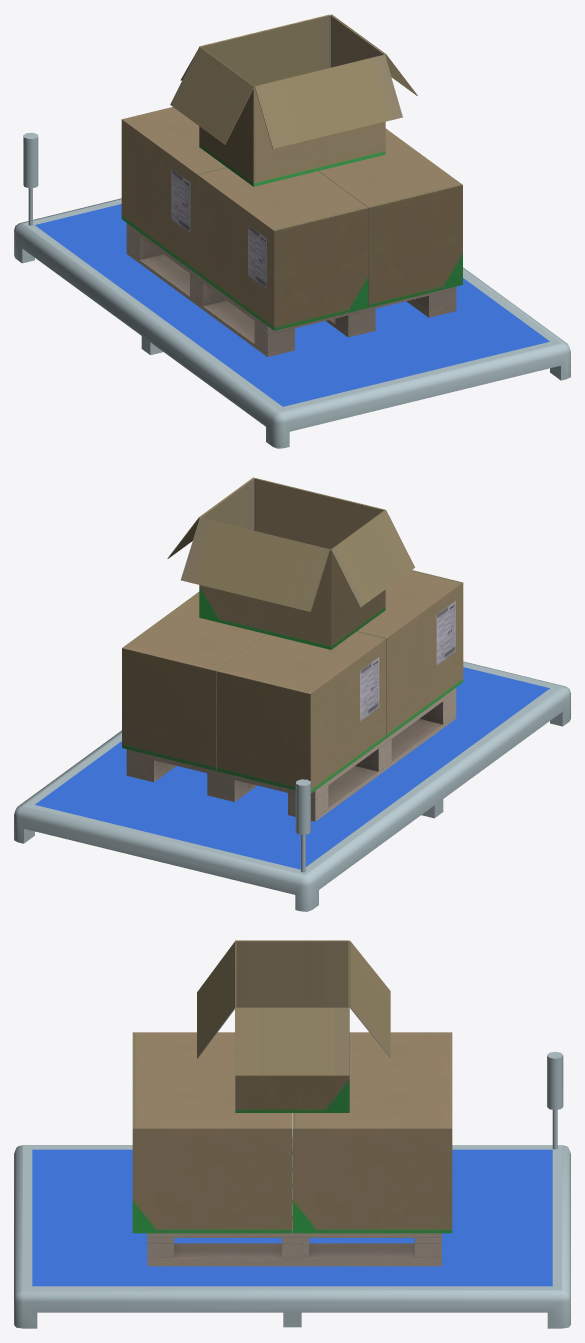
The model's file is yuan.gltf.
3 views of the same model, one above another, from view 1: azimuth 30°, elevation 25°; view 2: azimuth 150°, elevation 25°; view 3: azimuth 270°, elevation 25° (orthographic). The views are drawn at different scales.
Visible parts, largest first — view 1: SND_zhixiang2026, Box007, 对象011, Cylinder009; view 2: SND_zhixiang2026, Box007, 对象011, Cylinder009; view 3: SND_zhixiang2026, Box007, 对象011, Cylinder009.
Part boxes in pixels (box(x1,y1,x2,y2)): SND_zhixiang2026: box(121, 107, 462, 356); Box007: box(14, 198, 570, 448); 对象011: box(170, 14, 417, 186); Cylinder009: box(23, 132, 38, 188); SND_zhixiang2026: box(122, 570, 463, 821); Box007: box(14, 661, 570, 911); 对象011: box(167, 477, 414, 649); Cylinder009: box(295, 779, 310, 834); SND_zhixiang2026: box(132, 1032, 452, 1266); Box007: box(14, 1145, 570, 1328); 对象011: box(197, 940, 390, 1112); Cylinder009: box(547, 1052, 563, 1110).
Size of the model in its own units: 142 by 122 by 220.
3 materials, 1 textured.
